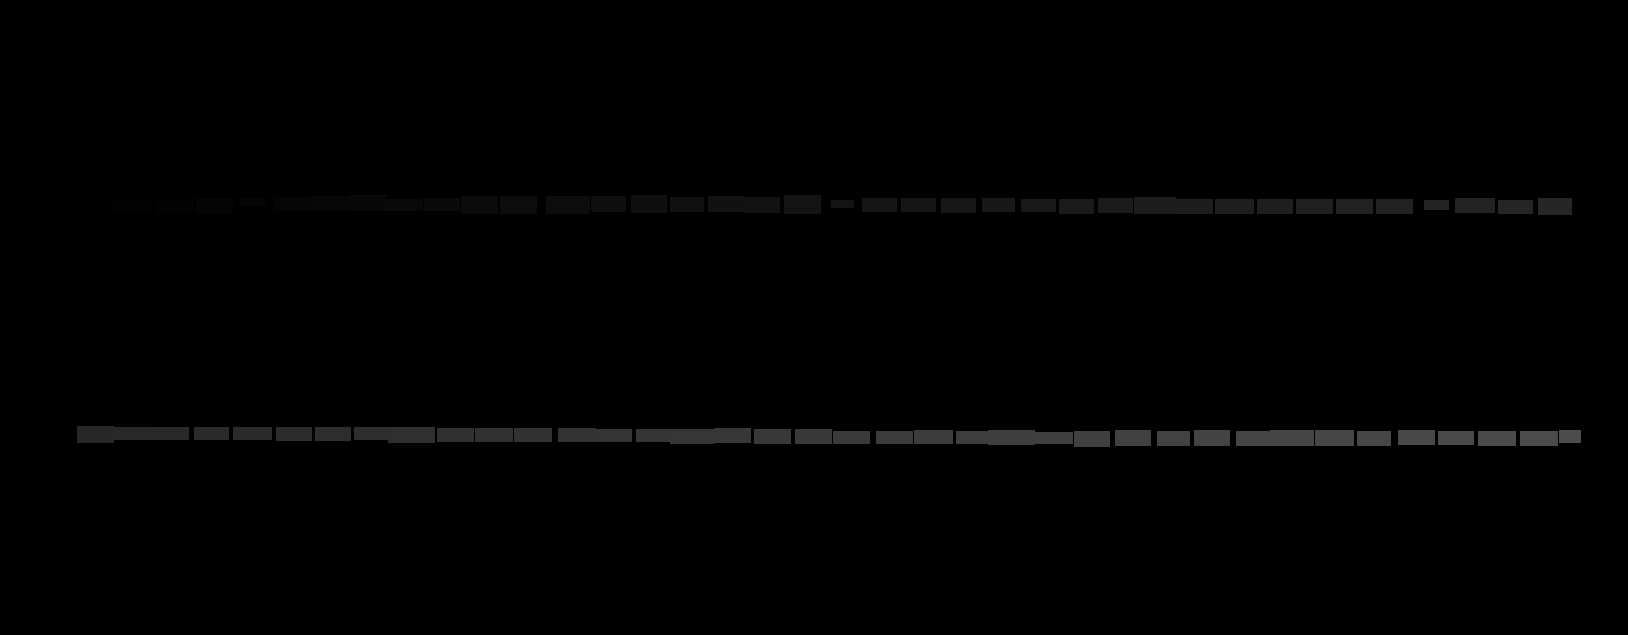light: (546, 196, 590, 214), (1270, 430, 1314, 446), (388, 427, 435, 443), (988, 430, 1035, 445), (1134, 197, 1176, 214), (784, 195, 821, 214), (670, 429, 714, 444), (461, 196, 498, 214), (500, 196, 537, 214), (1315, 430, 1354, 446), (631, 195, 667, 213), (77, 426, 114, 443), (1074, 431, 1110, 447), (1115, 430, 1151, 446), (1194, 430, 1230, 446), (1520, 431, 1558, 446), (1455, 198, 1495, 213), (349, 195, 386, 211), (754, 429, 791, 444), (1398, 430, 1435, 445), (1478, 431, 1516, 446), (1215, 199, 1254, 214), (914, 430, 953, 444), (1538, 198, 1572, 215), (196, 198, 233, 214), (708, 196, 744, 212), (714, 427, 751, 443), (795, 429, 832, 444), (1236, 431, 1272, 446), (1174, 199, 1213, 214), (474, 427, 513, 442), (514, 427, 552, 442), (558, 427, 596, 442), (591, 196, 626, 212), (744, 197, 780, 213), (1296, 199, 1333, 214), (1376, 199, 1413, 214), (437, 427, 474, 442), (1357, 431, 1391, 446), (1336, 199, 1373, 214), (1438, 431, 1474, 445), (273, 197, 311, 211), (1157, 431, 1190, 446), (941, 198, 976, 213), (1059, 199, 1094, 214), (1257, 199, 1293, 214), (311, 196, 349, 210), (833, 431, 870, 444), (670, 197, 704, 212), (1098, 198, 1133, 213), (233, 427, 272, 440), (276, 427, 313, 441), (315, 427, 351, 441), (596, 429, 632, 442), (876, 431, 913, 444), (112, 427, 151, 440), (151, 427, 189, 440), (1034, 432, 1073, 444), (862, 198, 897, 212), (901, 198, 937, 212), (1498, 200, 1534, 214), (956, 431, 992, 444), (80, 199, 117, 212), (157, 199, 194, 212), (636, 429, 671, 442), (115, 199, 152, 212), (424, 198, 460, 211), (982, 198, 1015, 212), (1021, 199, 1056, 212), (194, 427, 229, 440), (354, 427, 389, 440), (386, 199, 423, 211), (1559, 430, 1581, 443), (1424, 200, 1449, 210), (240, 198, 265, 206), (831, 200, 854, 208)
